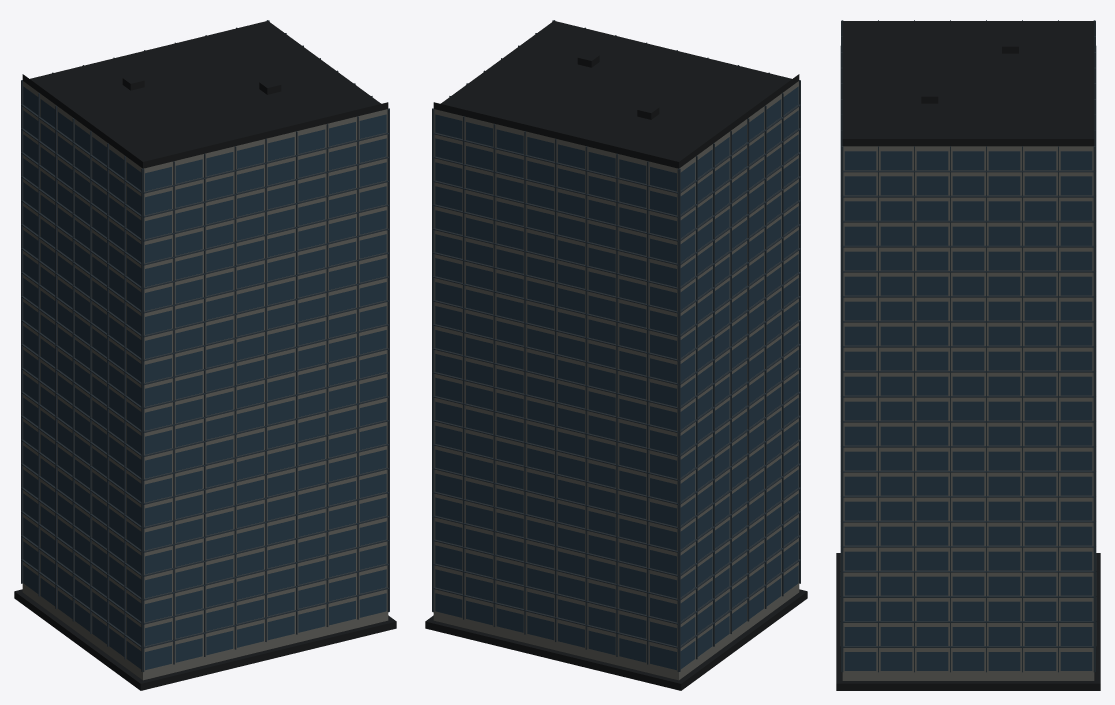
The model's file is office-11.glb.
3 views of the same model, side by side, from view 1: azimuth 30°, elevation 25°; view 2: azimuth 150°, elevation 25°; view 3: azimuth 270°, elevation 25° (orthographic). The views are drawn at different scales.
Parts seen in each view (by area): view 1: glass-office; view 2: glass-office; view 3: glass-office.
Boxes of the visible parts, x1=… form: glass-office: x1=14, y1=20, x2=396, y2=690; glass-office: x1=425, y1=20, x2=807, y2=690; glass-office: x1=836, y1=20, x2=1100, y2=690.
Bounding box in the file's own units: 43.6 × 86.65 × 37.34.
